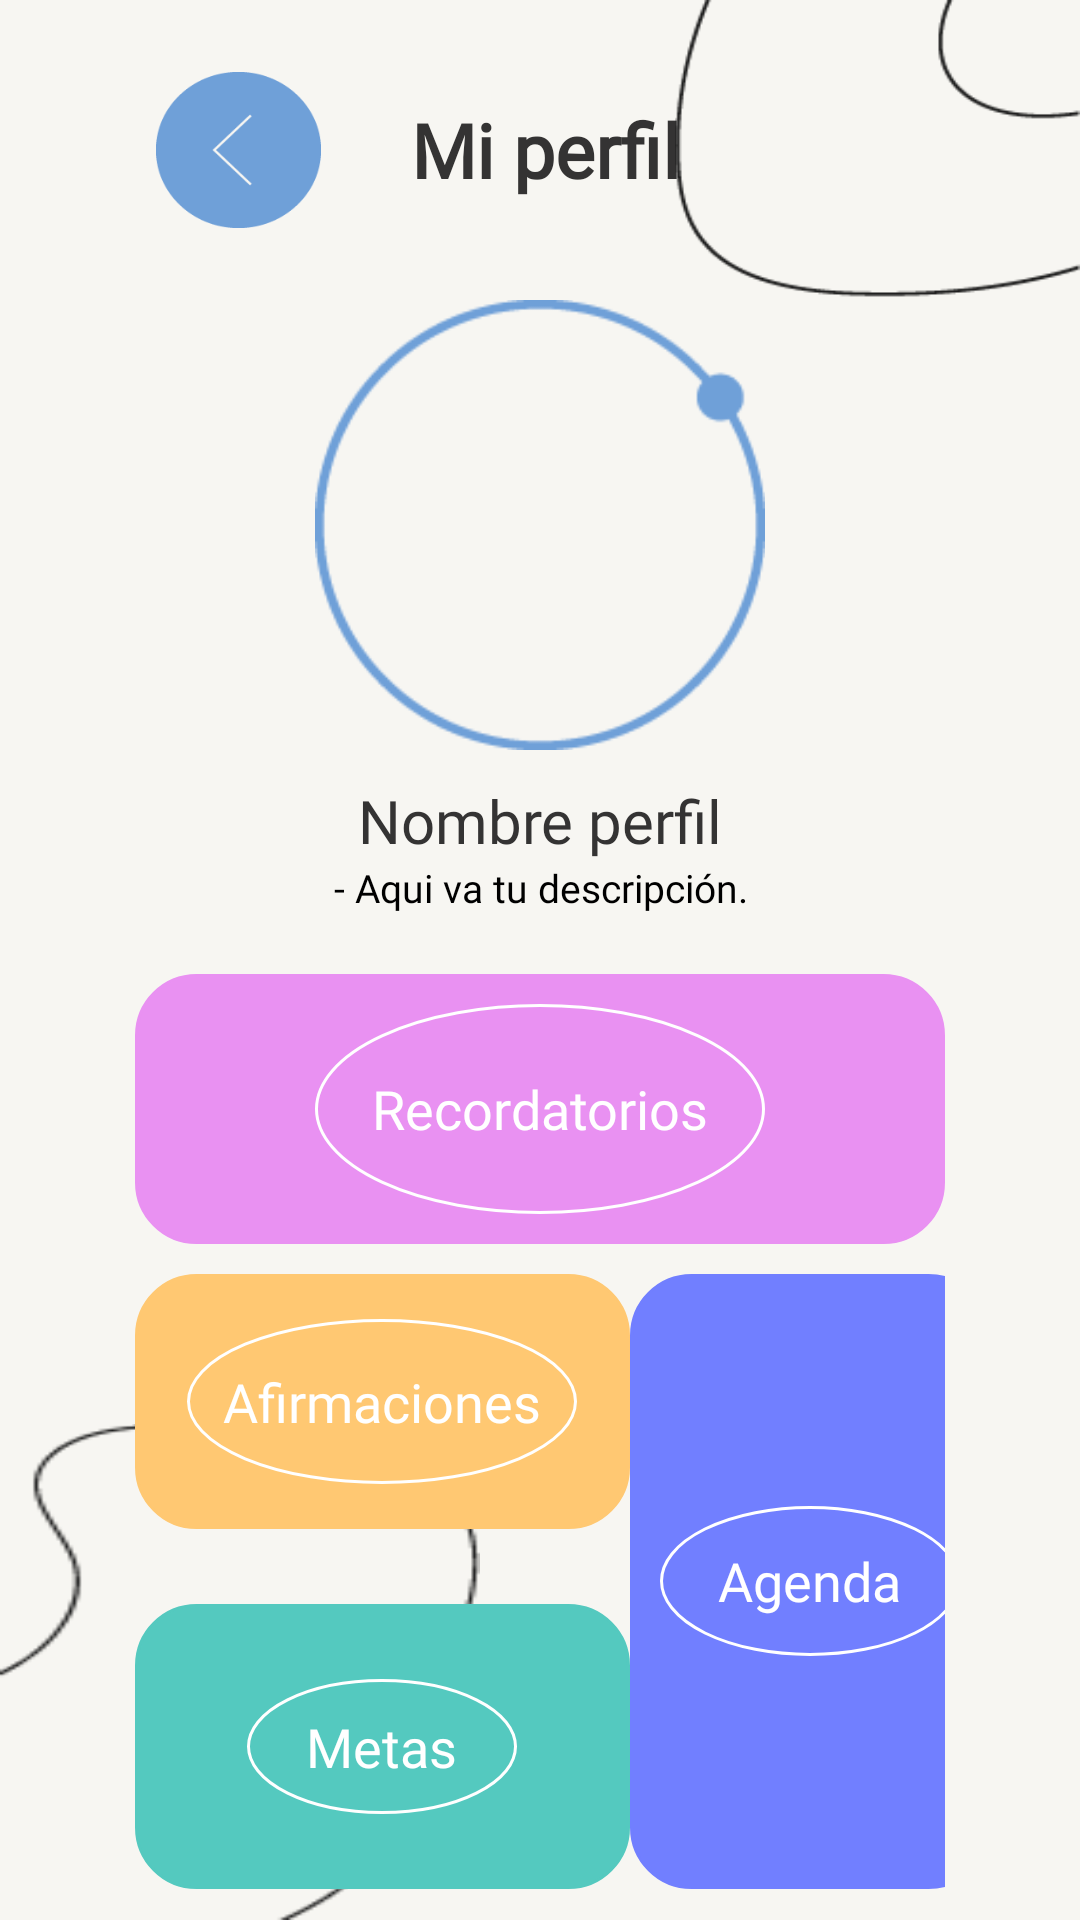

Screen size 1080 x 1920. Icon name, then its center in pixels as [x,y]:
regresar xxxdpi: [238,150]
